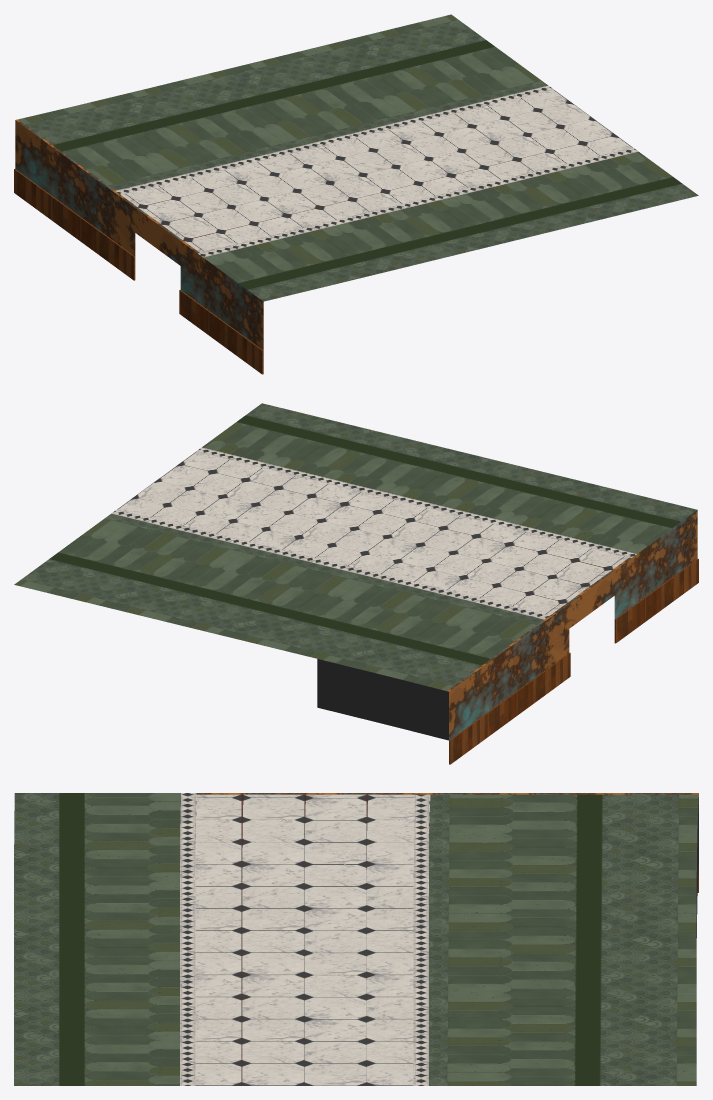
File: DinningHallFloor.fbx
The picture shows the model from 3 angles, top to bottom: view 1: azimuth 30°, elevation 25°; view 2: azimuth 150°, elevation 25°; view 3: azimuth 270°, elevation 25°; orthographic projection. The views are drawn at different scales.
Parts seen in each view (by area): view 1: Plane.007; view 2: Plane.007; view 3: Plane.007.
Part boxes in pixels (x1,y1,x2,y2): Plane.007: (14, 14, 698, 374); Plane.007: (14, 403, 698, 764); Plane.007: (14, 793, 698, 1085).
Bounding box in the file's own units: 10052 × 1596 × 9910.
